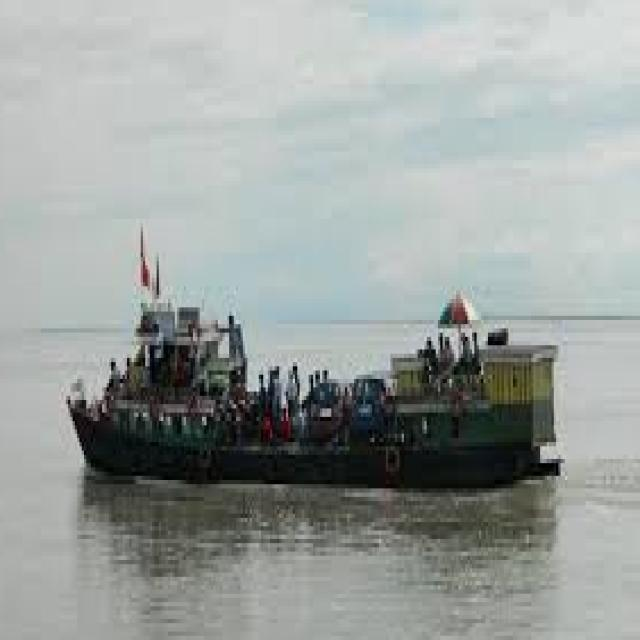fishing boat: (63, 248, 562, 484)
